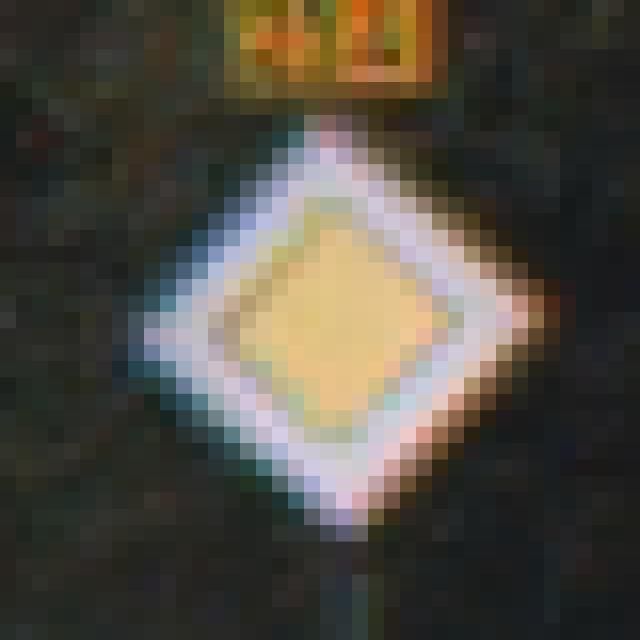Main Road: (97, 99, 561, 559)
